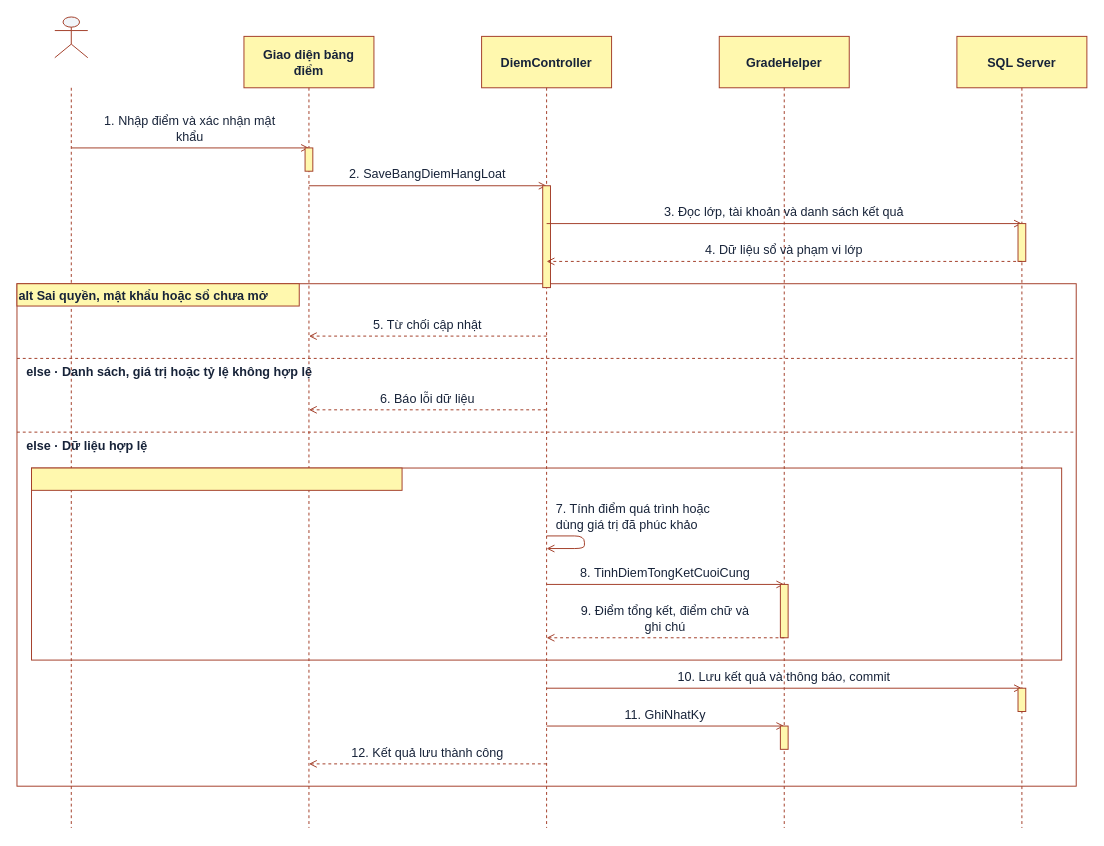
This 1104x846 diagram has some shape labels left out. Here are the shapes that lost their labels. From the top down, the centre of each, then its label:
At pixel 71 37: "Người nhập điểm".
At pixel 216 478: "loop Từng bản ghi cần tính lại, cả lớp nếu đổi tỷ lệ".
